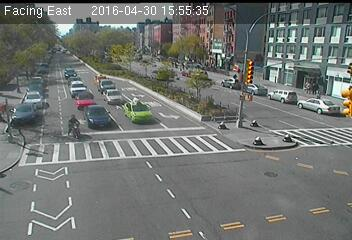neg: (61, 112, 83, 142), (137, 127, 159, 156), (302, 152, 319, 174), (86, 193, 102, 213), (216, 112, 230, 132), (165, 73, 179, 92), (257, 144, 271, 163), (193, 58, 207, 76), (122, 55, 135, 73), (222, 191, 234, 208), (79, 63, 90, 78), (191, 179, 200, 191)
pos: (301, 78, 311, 91), (311, 81, 320, 94), (305, 80, 314, 92), (231, 73, 239, 83)
